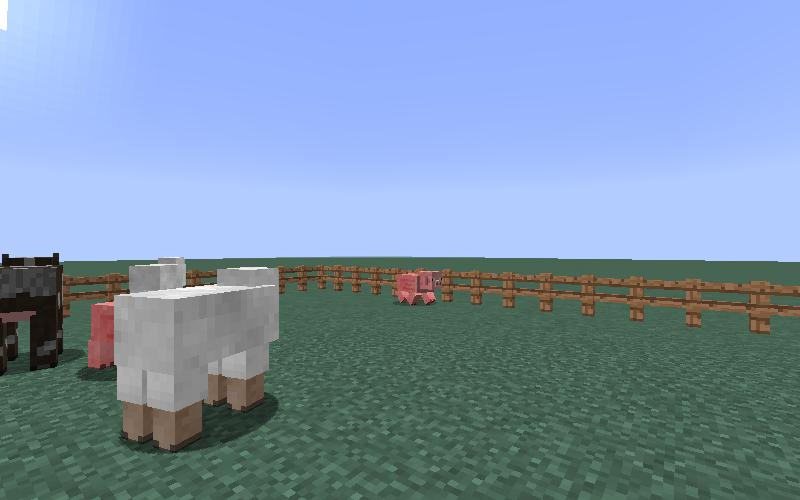cow: (1, 247, 66, 379)
pig: (392, 266, 443, 310), (87, 300, 114, 369)
sheep: (107, 262, 287, 454), (127, 256, 188, 291)
